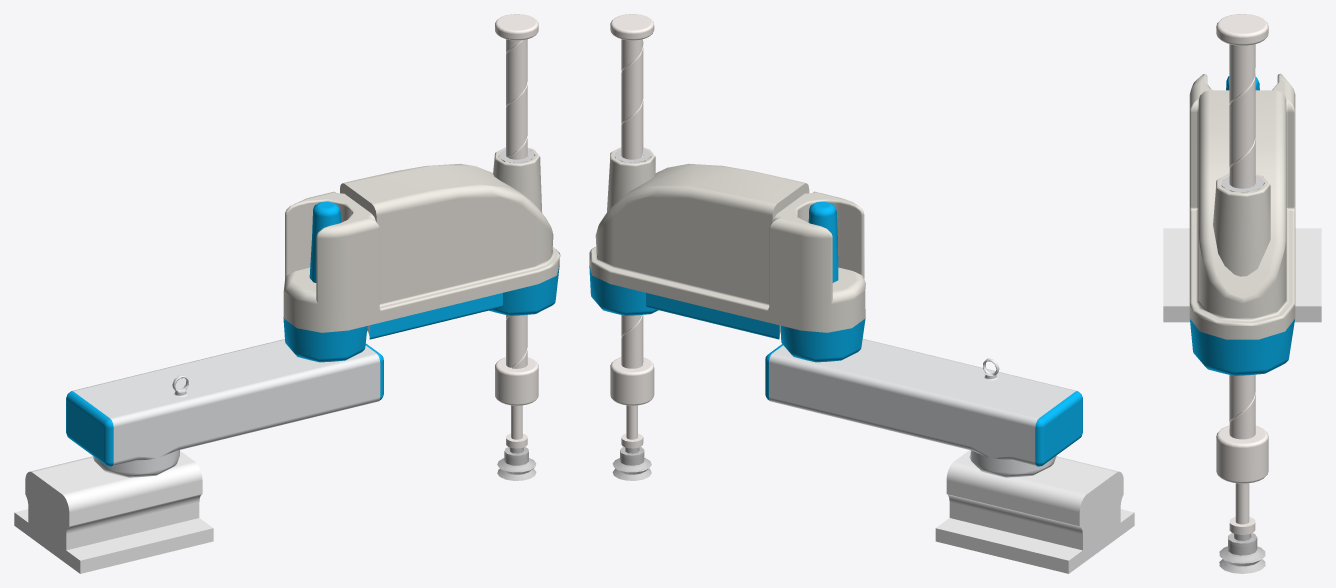
Rendered from 4robot.dae.
The picture shows the model from 3 angles, left to right: view 1: azimuth 30°, elevation 25°; view 2: azimuth 150°, elevation 25°; view 3: azimuth 270°, elevation 25°; orthographic projection. The views are drawn at different scales.
Parts seen in each view (by area): view 1: oj2, oj1, odg_robot, oj4, oj5; view 2: oj2, oj1, odg_robot, oj4, oj5; view 3: oj2, oj4, odg_robot, oj5, oj3.
Part boxes in pixels (left/top/right/bottom): oj2: left=283, top=147, right=560, bottom=362; oj1: left=66, top=339, right=383, bottom=477; odg_robot: left=14, top=451, right=213, bottom=573; oj4: left=495, top=14, right=538, bottom=448; oj5: left=497, top=447, right=536, bottom=480; oj2: left=589, top=147, right=865, bottom=362; oj1: left=765, top=338, right=1082, bottom=477; odg_robot: left=935, top=450, right=1134, bottom=573; oj4: left=610, top=14, right=654, bottom=448; oj5: left=612, top=447, right=651, bottom=480; oj2: left=1189, top=73, right=1295, bottom=375; oj4: left=1216, top=14, right=1268, bottom=534; odg_robot: left=1163, top=228, right=1321, bottom=322; oj5: left=1219, top=533, right=1265, bottom=573; oj3: left=1221, top=176, right=1264, bottom=192.
Size of the model in its own units: 0.7989 by 0.18 by 0.6784.
